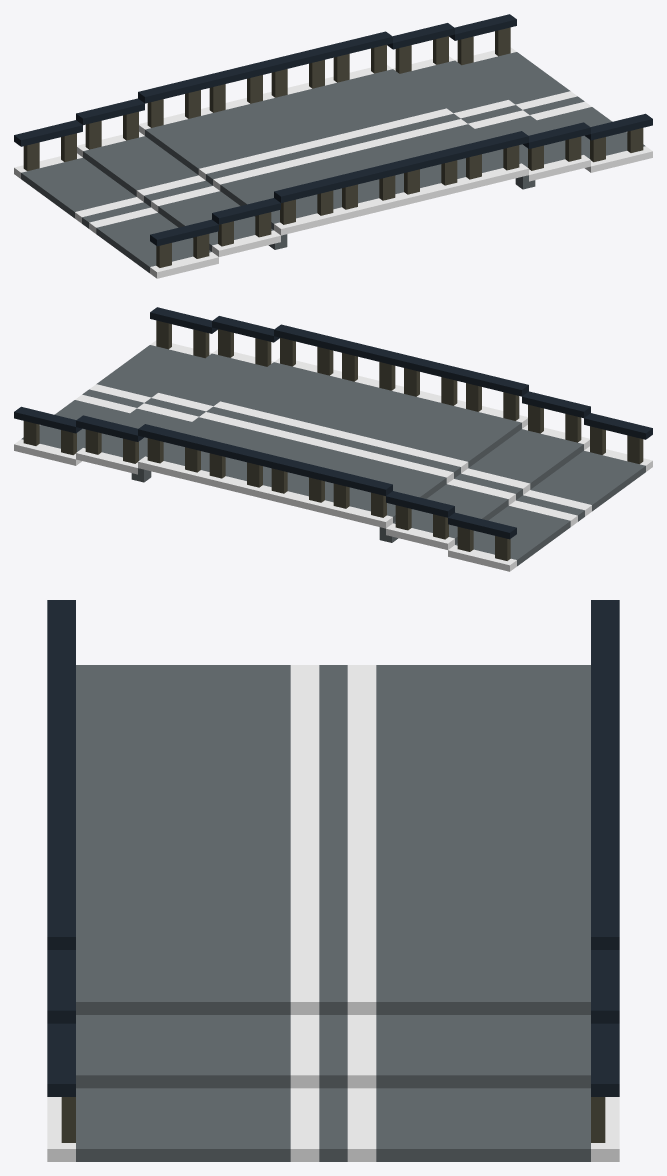
The model's file is river_bridge_overtile.obj.
3 views of the same model, one above another, from view 1: azimuth 30°, elevation 25°; view 2: azimuth 150°, elevation 25°; view 3: azimuth 270°, elevation 25° (orthographic). The views are drawn at different scales.
Bounding box in the file's own units: 8 × 0.8 × 4.
1 material, 1 textured.
